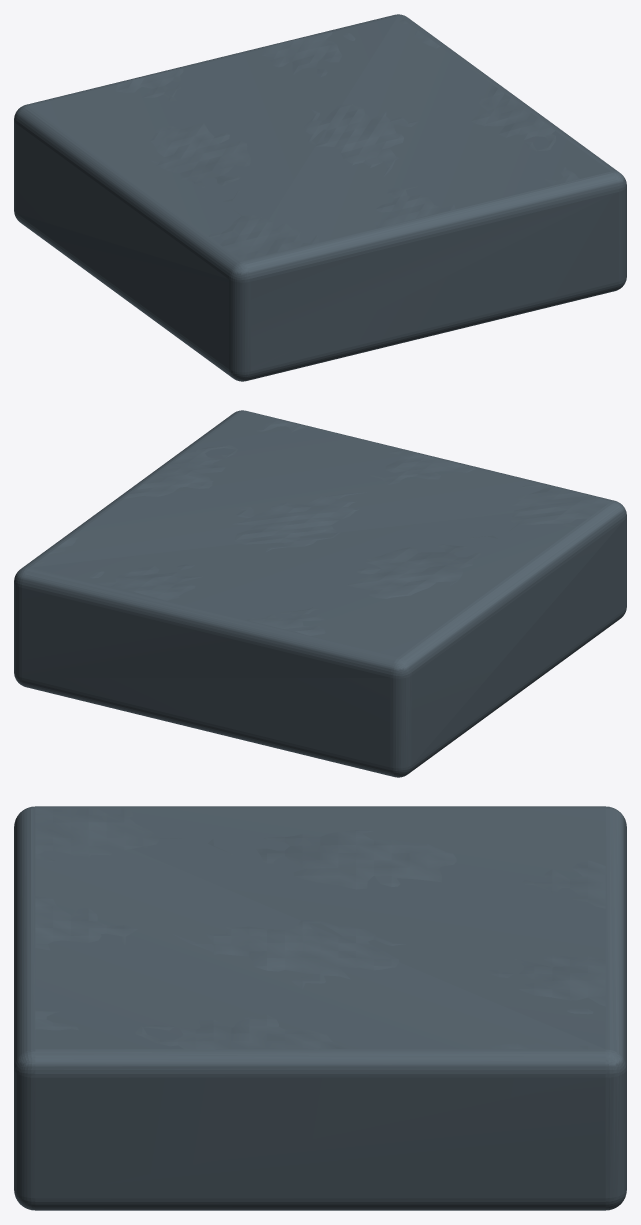
The model's file is stone-slate-blue.glb.
The picture shows the model from 3 angles, top to bottom: view 1: azimuth 30°, elevation 25°; view 2: azimuth 150°, elevation 25°; view 3: azimuth 270°, elevation 25°; orthographic projection. The views are drawn at different scales.
Parts seen in each view (by area): view 1: Single_stone_tile_mesh; view 2: Single_stone_tile_mesh; view 3: Single_stone_tile_mesh.
Boxes of the visible parts, x1,y1,x2,y2 form: Single_stone_tile_mesh: (14,14,626,381); Single_stone_tile_mesh: (14,410,626,777); Single_stone_tile_mesh: (14,806,626,1210).
Size of the model in its own units: 0.978 by 0.2846 by 0.978.
